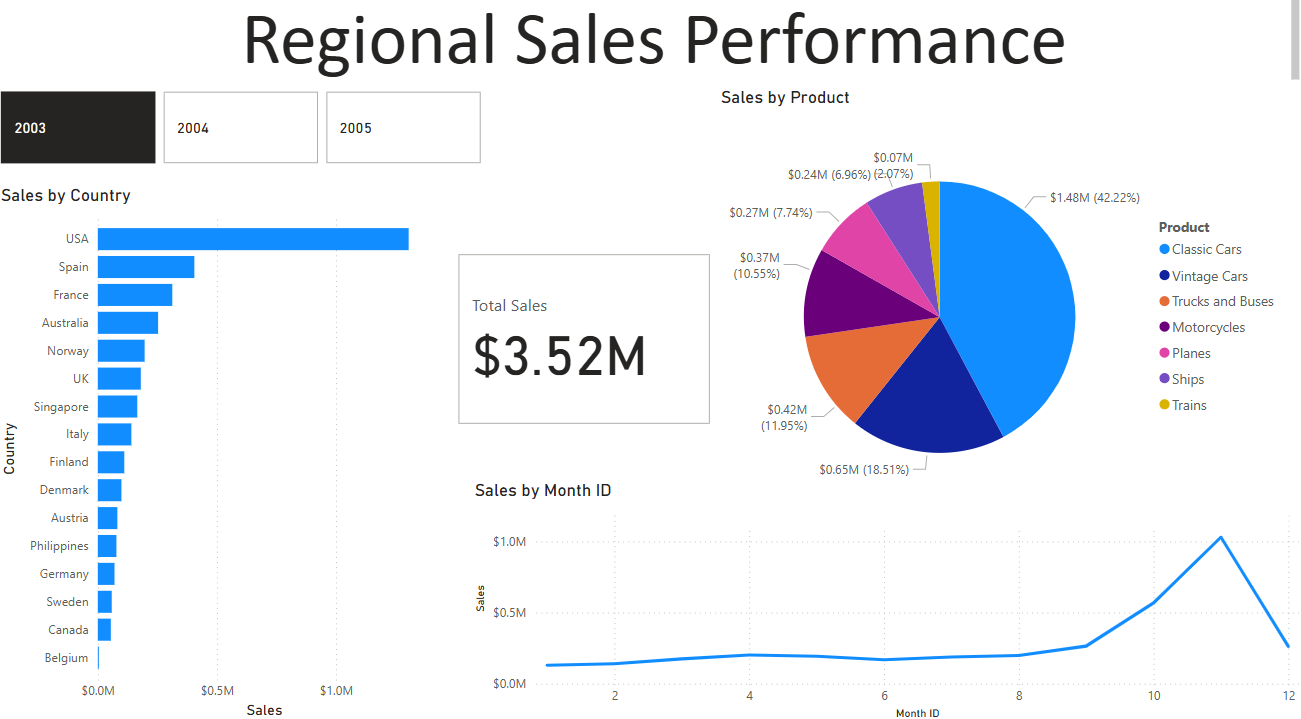

Layout of this report page (visuals, bound fields, positions):
{"tool":"powerbi","page":{"name":"Page 1","canvas":[1280,720],"ordinal":0},"visuals":[{"type":"textbox","box":[16,0,1264,96],"z":0},{"type":"advancedSlicerVisual","fields":{"Values":["sales_data_sample.YEAR_ID"]},"box":[0,96,480,80],"z":1000},{"type":"barChart","title":"Sales by Country","fields":{"Y":["Sum(sales_data_sample.SALES)"],"Category":["sales_data_sample.COUNTRY"]},"box":[0,192,448,528],"z":2000},{"type":"lineChart","fields":{"Category":["sales_data_sample.MONTH_ID"],"Y":["Sum(sales_data_sample.SALES)"]},"box":[464,480,816,240],"z":3000},{"type":"pieChart","fields":{"Y":["Sum(sales_data_sample.SALES)"],"Category":["sales_data_sample.PRODUCTLINE"]},"box":[704,96,560,432],"z":4000},{"type":"cardVisual","fields":{"Data":["Sum(sales_data_sample.SALES)"]},"box":[448,256,256,176],"z":5000}]}

Visuals, with their boxes in screenshot pixels (x1, y1, x2, y2), scaled from the page's 1280x720 canvas onto the 1301x719 screenshot:
textbox: 16:0:1300:96
advancedSlicerVisual - sales_data_sample.YEAR_ID: 0:96:488:176
"Sales by Country" barChart: 0:192:455:718
lineChart - sales_data_sample.MONTH_ID x Sum(sales_data_sample.SALES): 472:479:1300:718
pieChart - Sum(sales_data_sample.SALES) x sales_data_sample.PRODUCTLINE: 716:96:1285:527
cardVisual - Sum(sales_data_sample.SALES): 455:256:716:431
